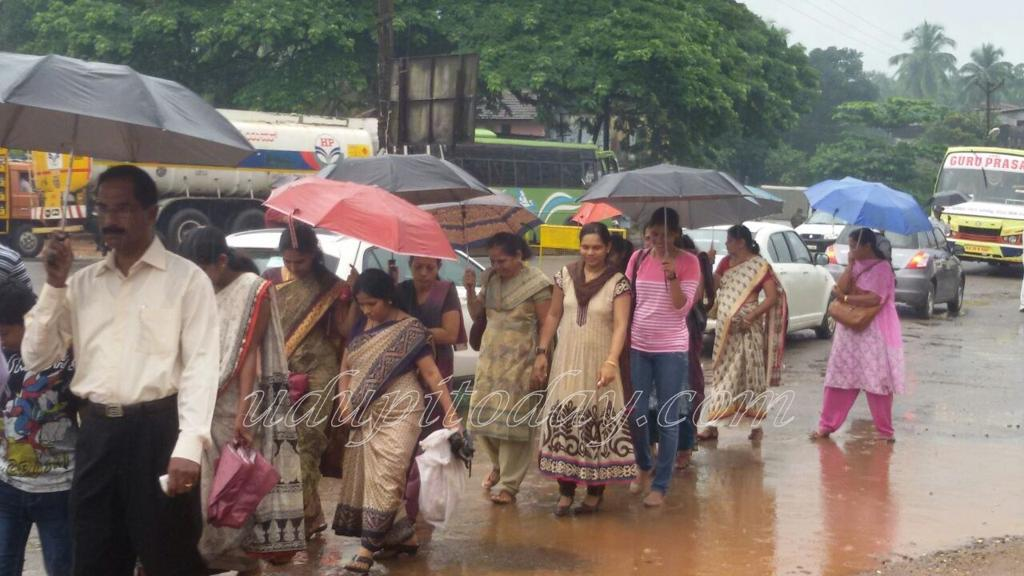face: (97, 182, 145, 249), (355, 290, 385, 321), (489, 248, 518, 279), (284, 247, 313, 278), (412, 256, 439, 288), (188, 260, 221, 286), (580, 235, 606, 267), (650, 224, 673, 252), (1, 320, 18, 352), (849, 237, 868, 260), (607, 246, 623, 269), (645, 228, 660, 251), (725, 232, 740, 254), (935, 209, 942, 217), (612, 225, 618, 231)
